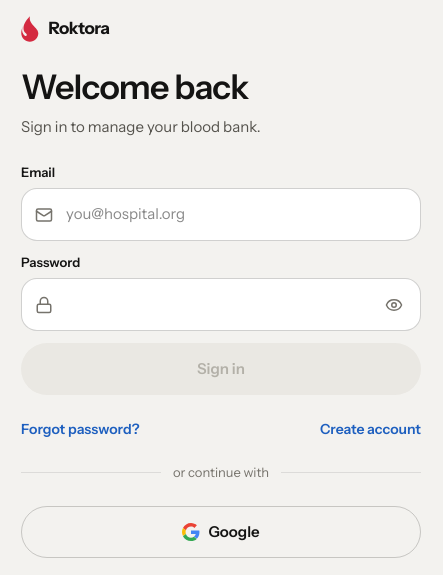
it: login page › keeps Sign in disabled until the email is valid and the password has 6+ characters
The width and height of the screenshot is (443, 575).
Expected: the button "Sign in" is disabled, [21,343,421,395]
Type "staff@hospital.org" into the field labelled "Email" at (221, 215), box [21,188,421,241]
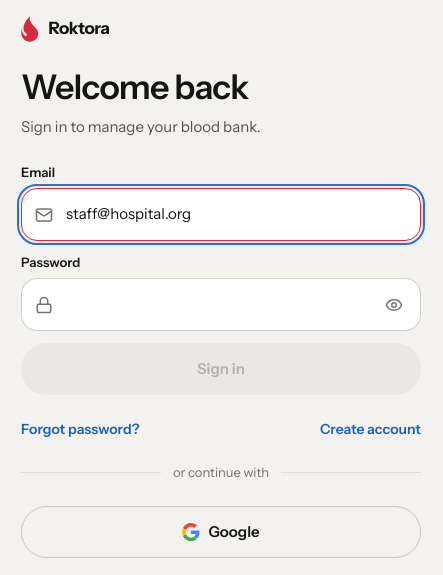
Type "123" into the password field labelled "Password" at (221, 305), box [21,278,421,331]
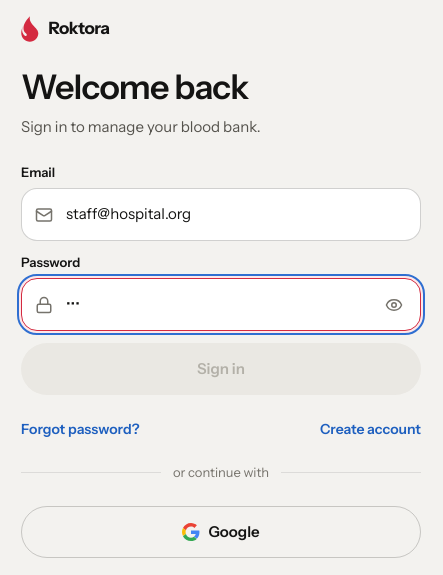
Expected: the button "Sign in" is disabled, [21,343,421,395]
Type "456" into the password field labelled "Password" at (221, 305), box [21,278,421,331]
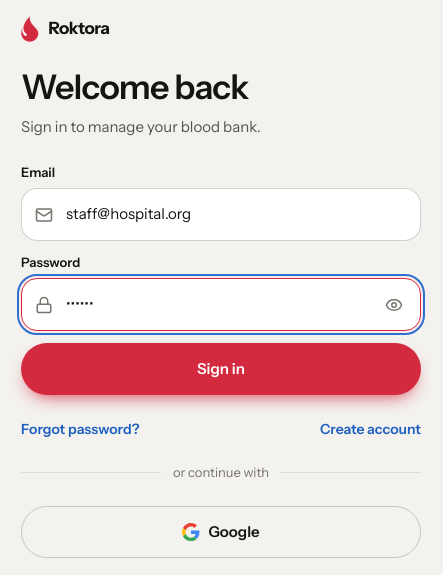
Expected: the button "Sign in" is enabled, [21,343,421,395]
